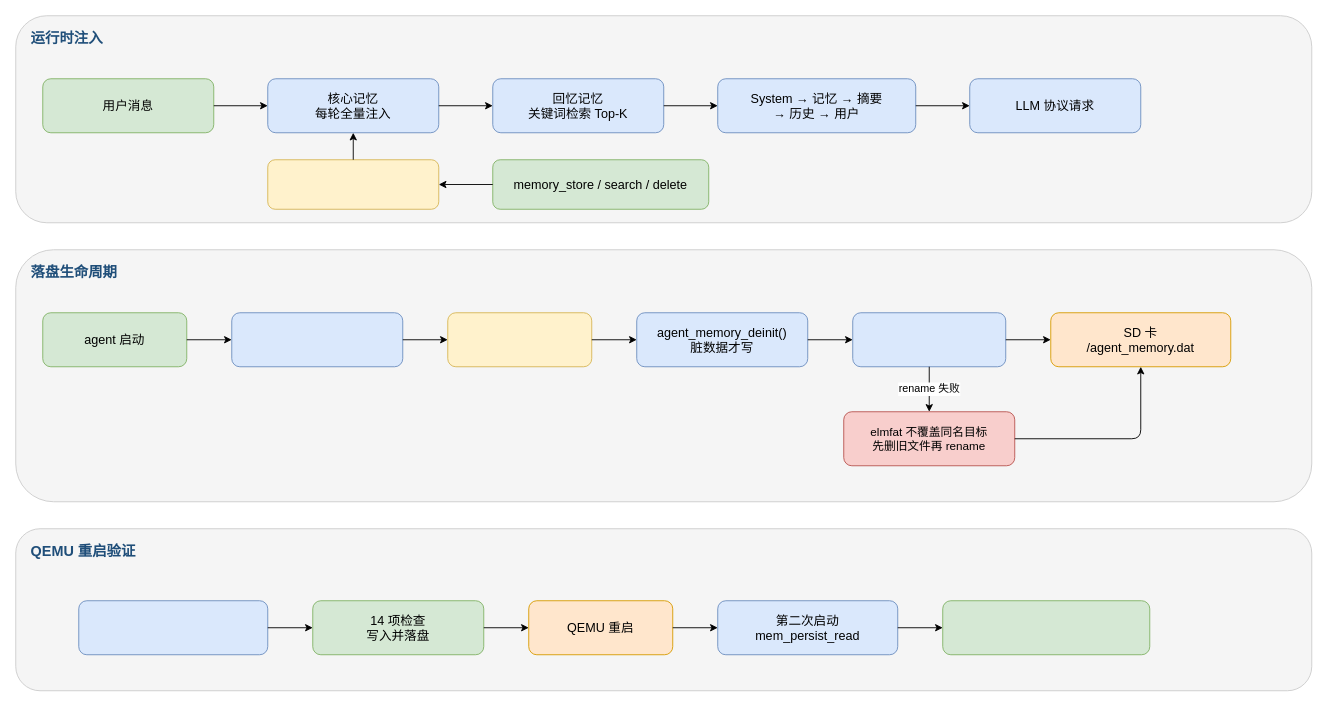
This 1328x707 diagram has some shape labels left out. The shapes that lost their labels are listed below. From the top down, each one's centre as x and y in pixels, then its label:
At (x=353, y=184): "静态槽池 core 8 + recall 32".
At (x=317, y=339): "agent_memory_init() 读主文件，缺失读 .tmp".
At (x=519, y=339): "RAM 槽池".
At (x=929, y=339): "先写 .tmp 再 rename 到主文件".
At (x=173, y=627): "第一次启动 mem_persist_write".
At (x=1046, y=627): "12 项检查 文本、id 与注入顺序读回".
